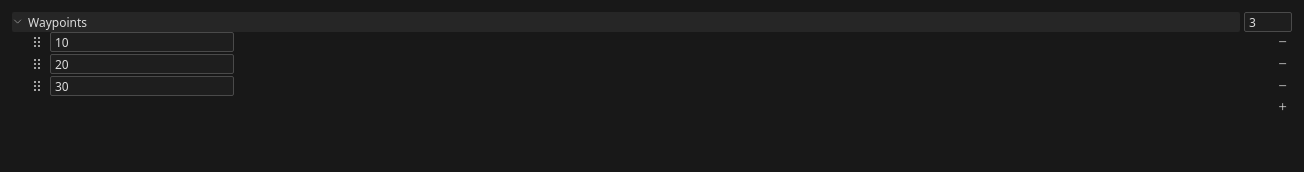
Test case: ListEditor › shows the elements with their size and collapses
The image size is (1304, 172).
Click the button "Waypoints": (58, 22) [12,12,1240,32]
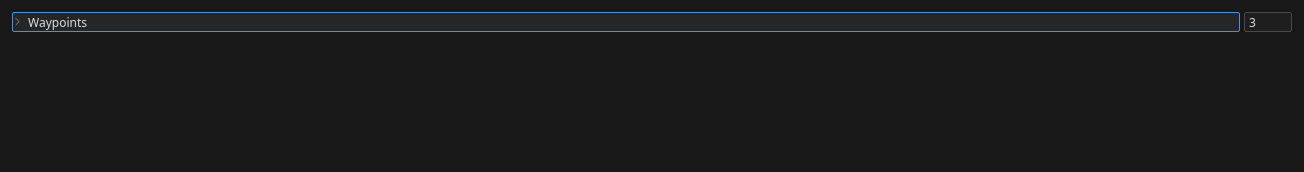
Expected: the button "Waypoints" is collapsed, [12,12,1240,32]
